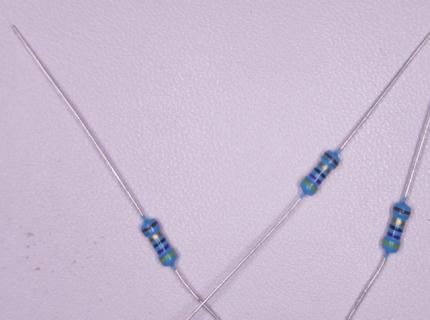Gold band: (150, 231, 163, 243), (318, 162, 331, 174), (392, 218, 406, 226)
Violet band: (309, 173, 322, 185), (157, 244, 170, 255), (387, 232, 401, 240)
Yellow band: (160, 250, 176, 263), (303, 179, 317, 193), (382, 240, 400, 249)
